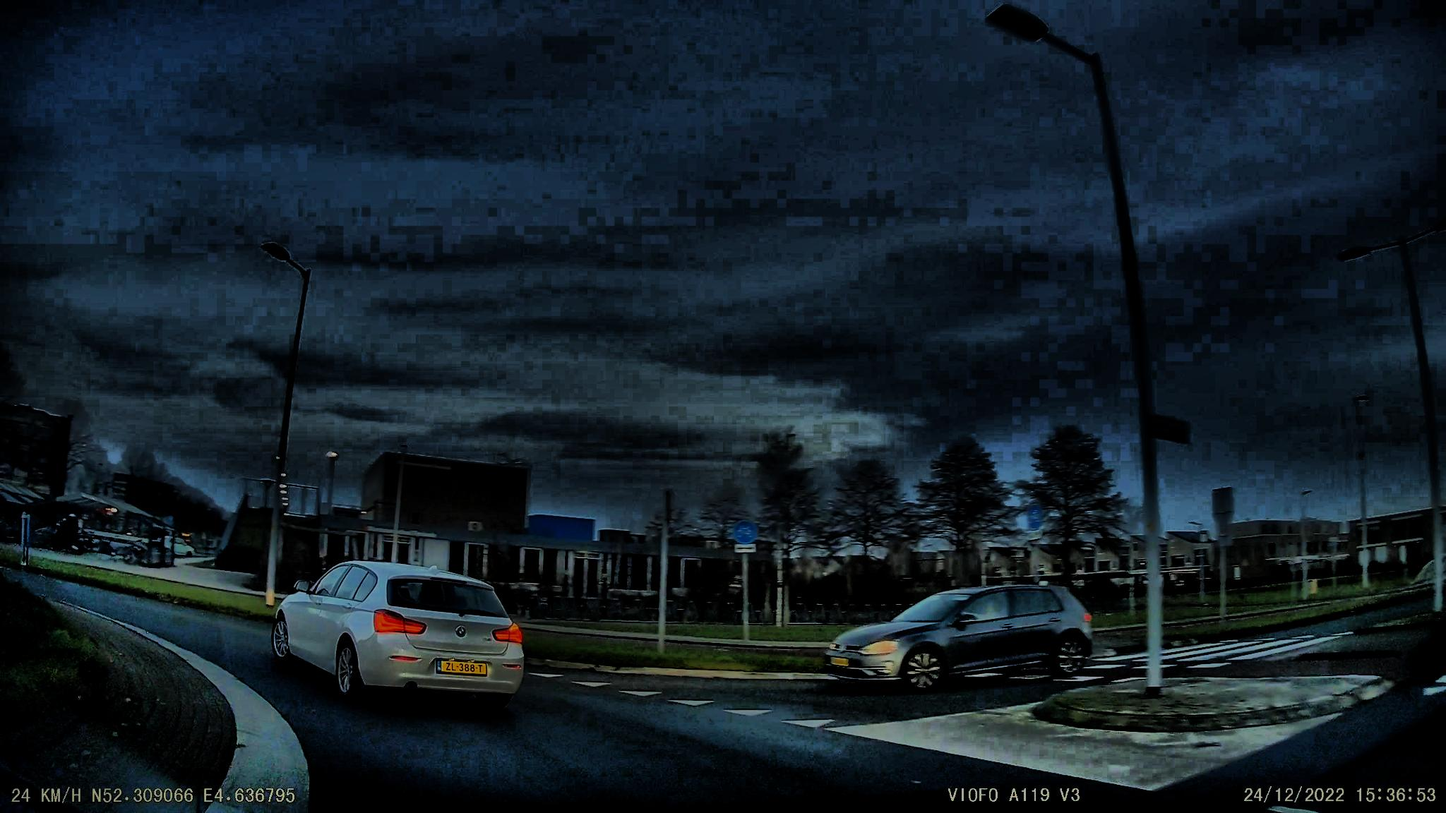Roads: (12, 574, 1446, 813)
